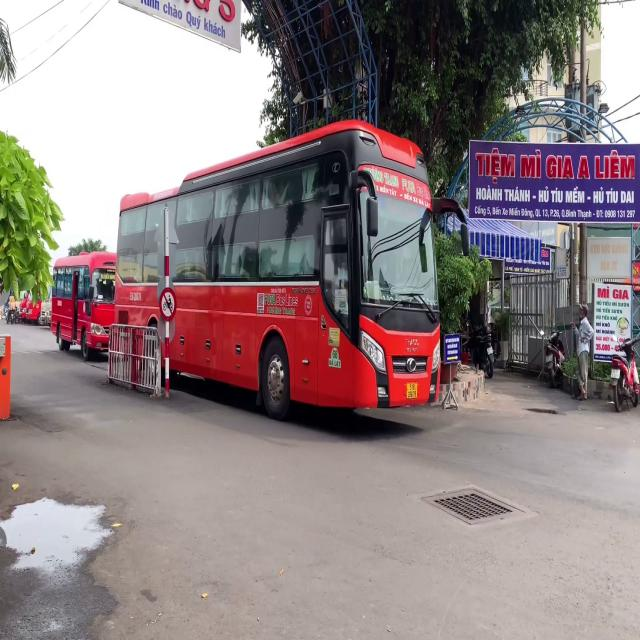bien_vang: (406, 382, 417, 398)
